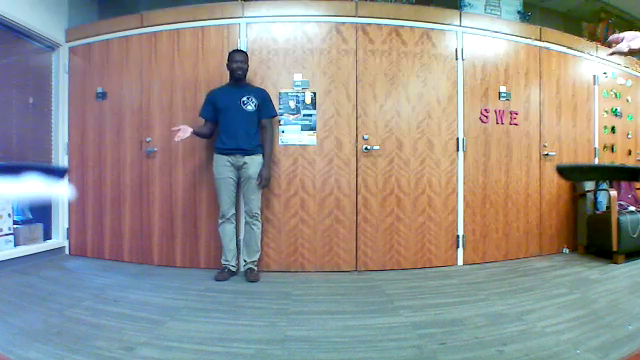land: (161, 117, 202, 145)
